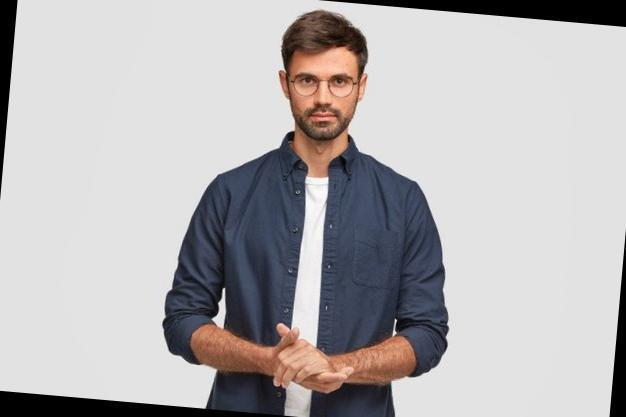Sober: (289, 51, 361, 130)
